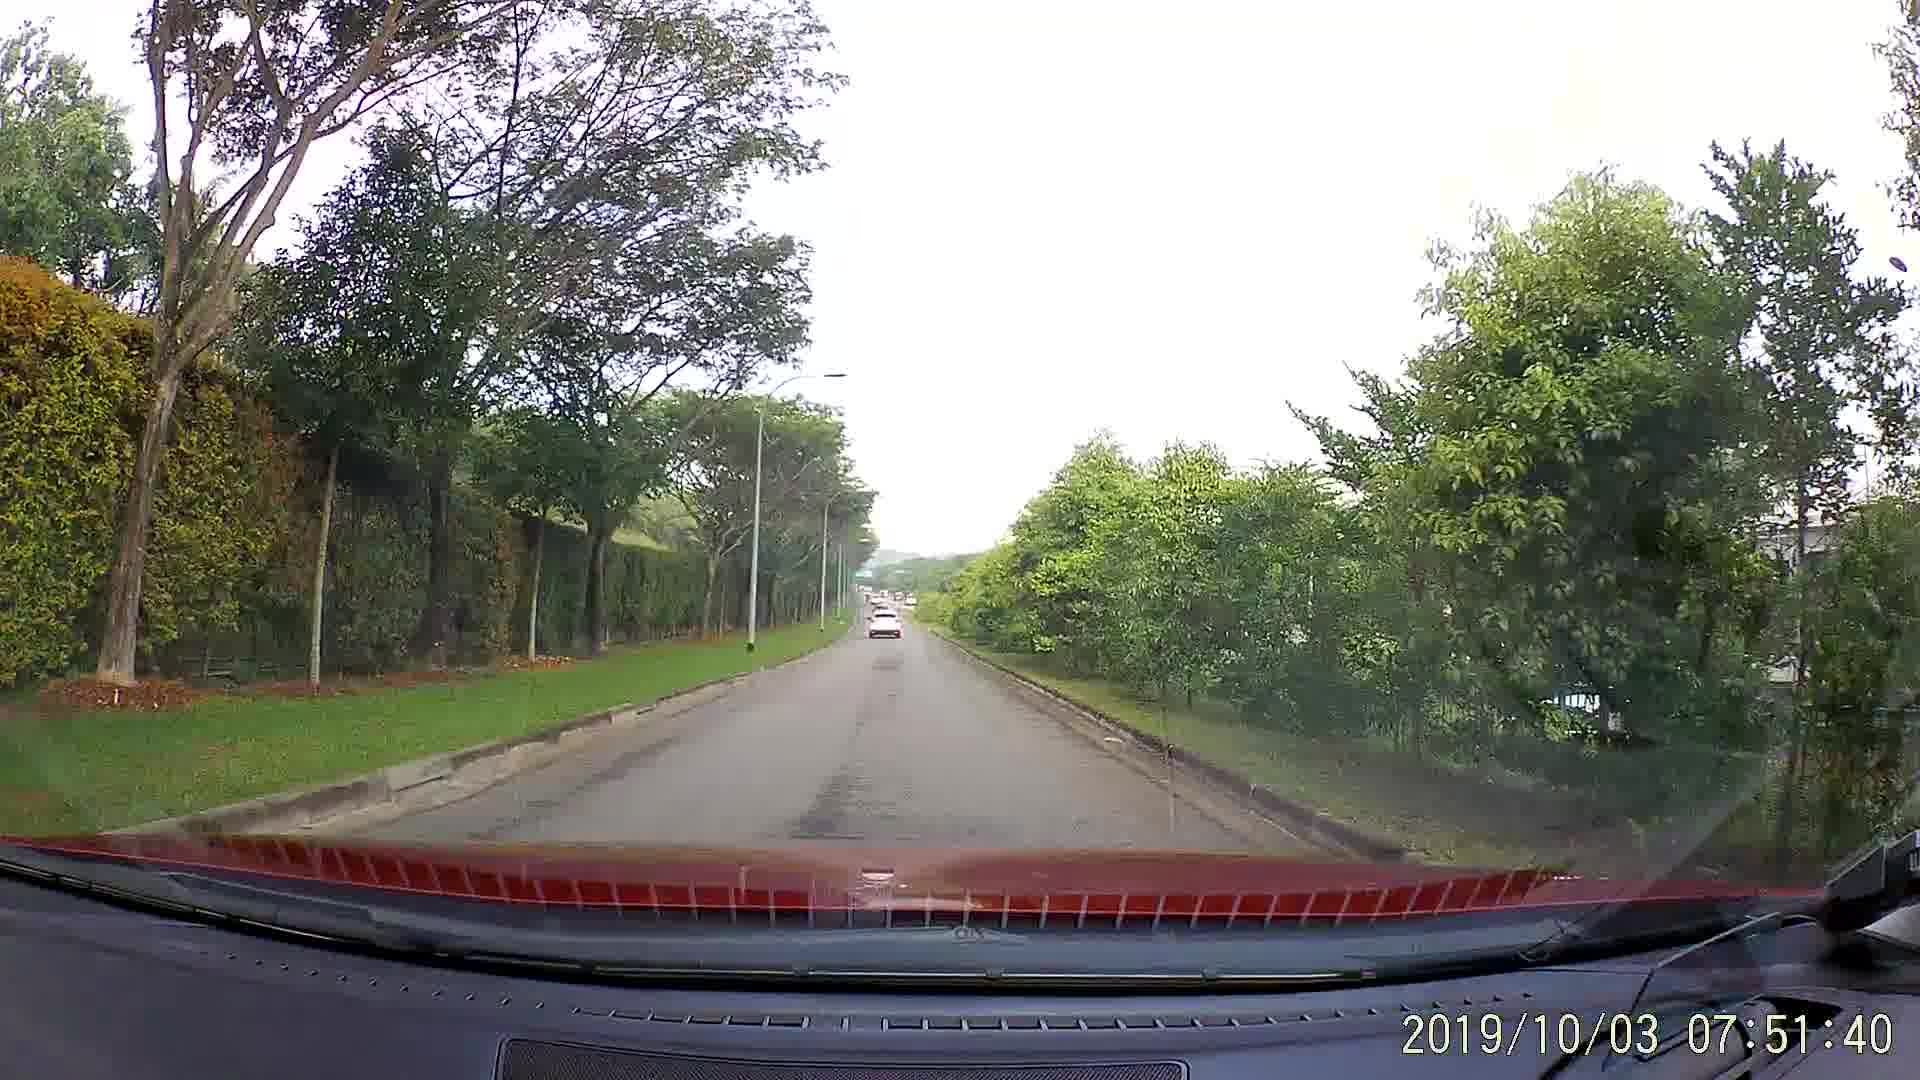car: (868, 611, 905, 640)
